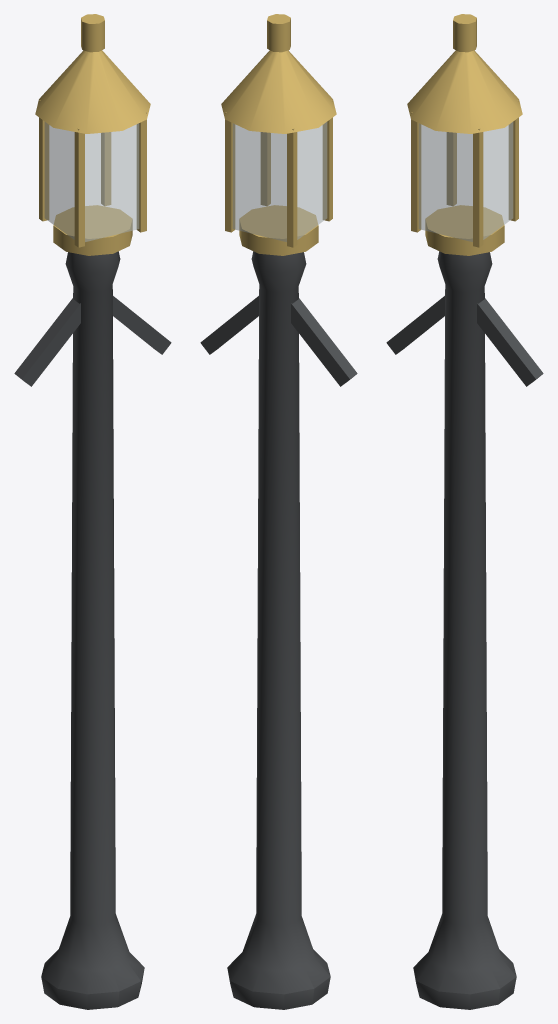
Rendered from lamp.glb.
The picture shows the model from 3 angles, left to right: view 1: azimuth 30°, elevation 25°; view 2: azimuth 150°, elevation 25°; view 3: azimuth 330°, elevation 25°; orthographic projection.
Visible parts, largest first — view 1: street-oil-lamp; view 2: street-oil-lamp; view 3: street-oil-lamp.
Boxes of the visible parts, x1,y1,x2,y2 form: street-oil-lamp: (14, 14, 171, 1009); street-oil-lamp: (200, 14, 357, 1009); street-oil-lamp: (386, 14, 543, 1009).
Bounding box in the file's own units: 0.5556 × 3.44 × 0.3799.
